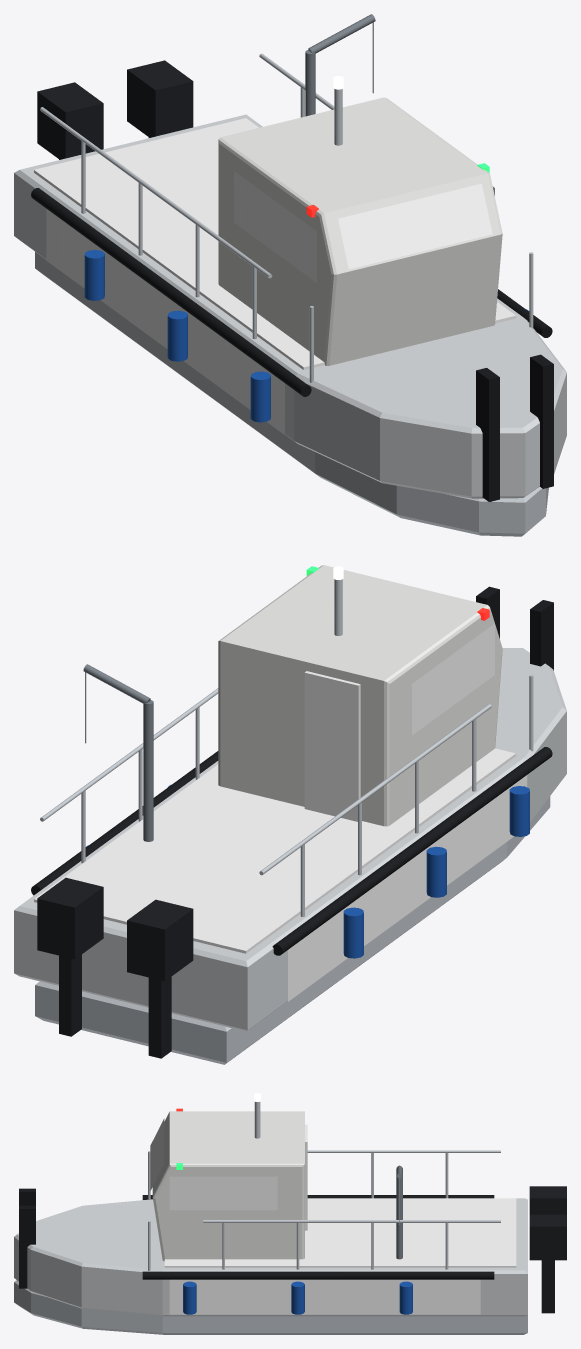
The model's file is fleet--workboat.glb.
The picture shows the model from 3 angles, top to bottom: view 1: azimuth 30°, elevation 25°; view 2: azimuth 150°, elevation 25°; view 3: azimuth 270°, elevation 25°; orthographic projection. The views are drawn at different scales.
Visible parts, largest first — view 1: workboat:shell, outboards, davit; view 2: workboat:shell, outboards, wheelhouseDoor, davit; view 3: workboat:shell, outboards, davit.
Part boxes in pixels (left/top/right/bottom): workboat:shell: left=14, top=53, right=566, bottom=536; outboards: left=37, top=60, right=193, bottom=159; davit: left=305, top=14, right=375, bottom=116; workboat:shell: left=14, top=565, right=566, bottom=1064; outboards: left=37, top=877, right=193, bottom=1058; wheelhouseDoor: left=304, top=671, right=360, bottom=821; davit: left=83, top=664, right=153, bottom=841; workboat:shell: left=14, top=1102, right=527, bottom=1334; outboards: left=529, top=1186, right=566, bottom=1313; davit: left=396, top=1165, right=402, bottom=1259.
Bounding box in the file's own units: 3.15 × 3.45 × 8.17.
